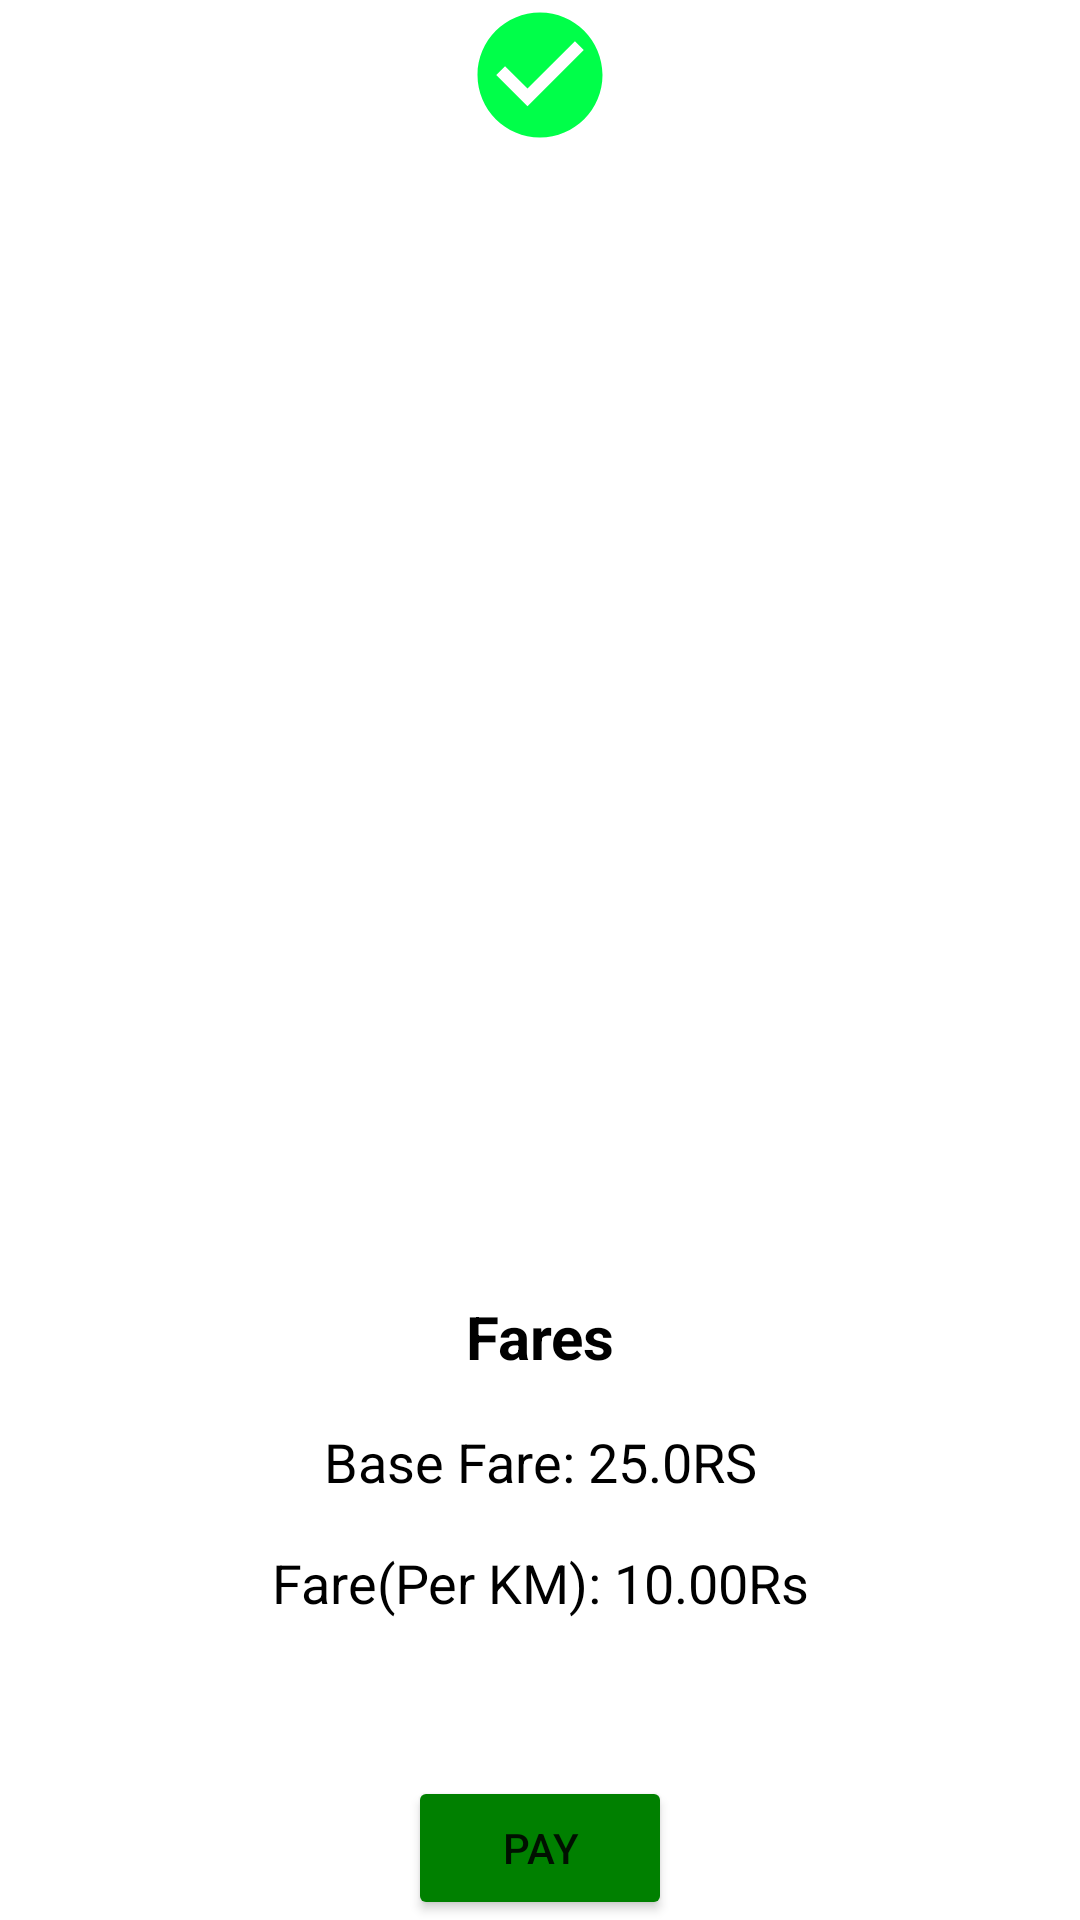

Locate icon controls on the screen. Image size 1080*1920, boxes as (x1, y1, x2, y2).
check circle: (477, 12, 603, 138)
